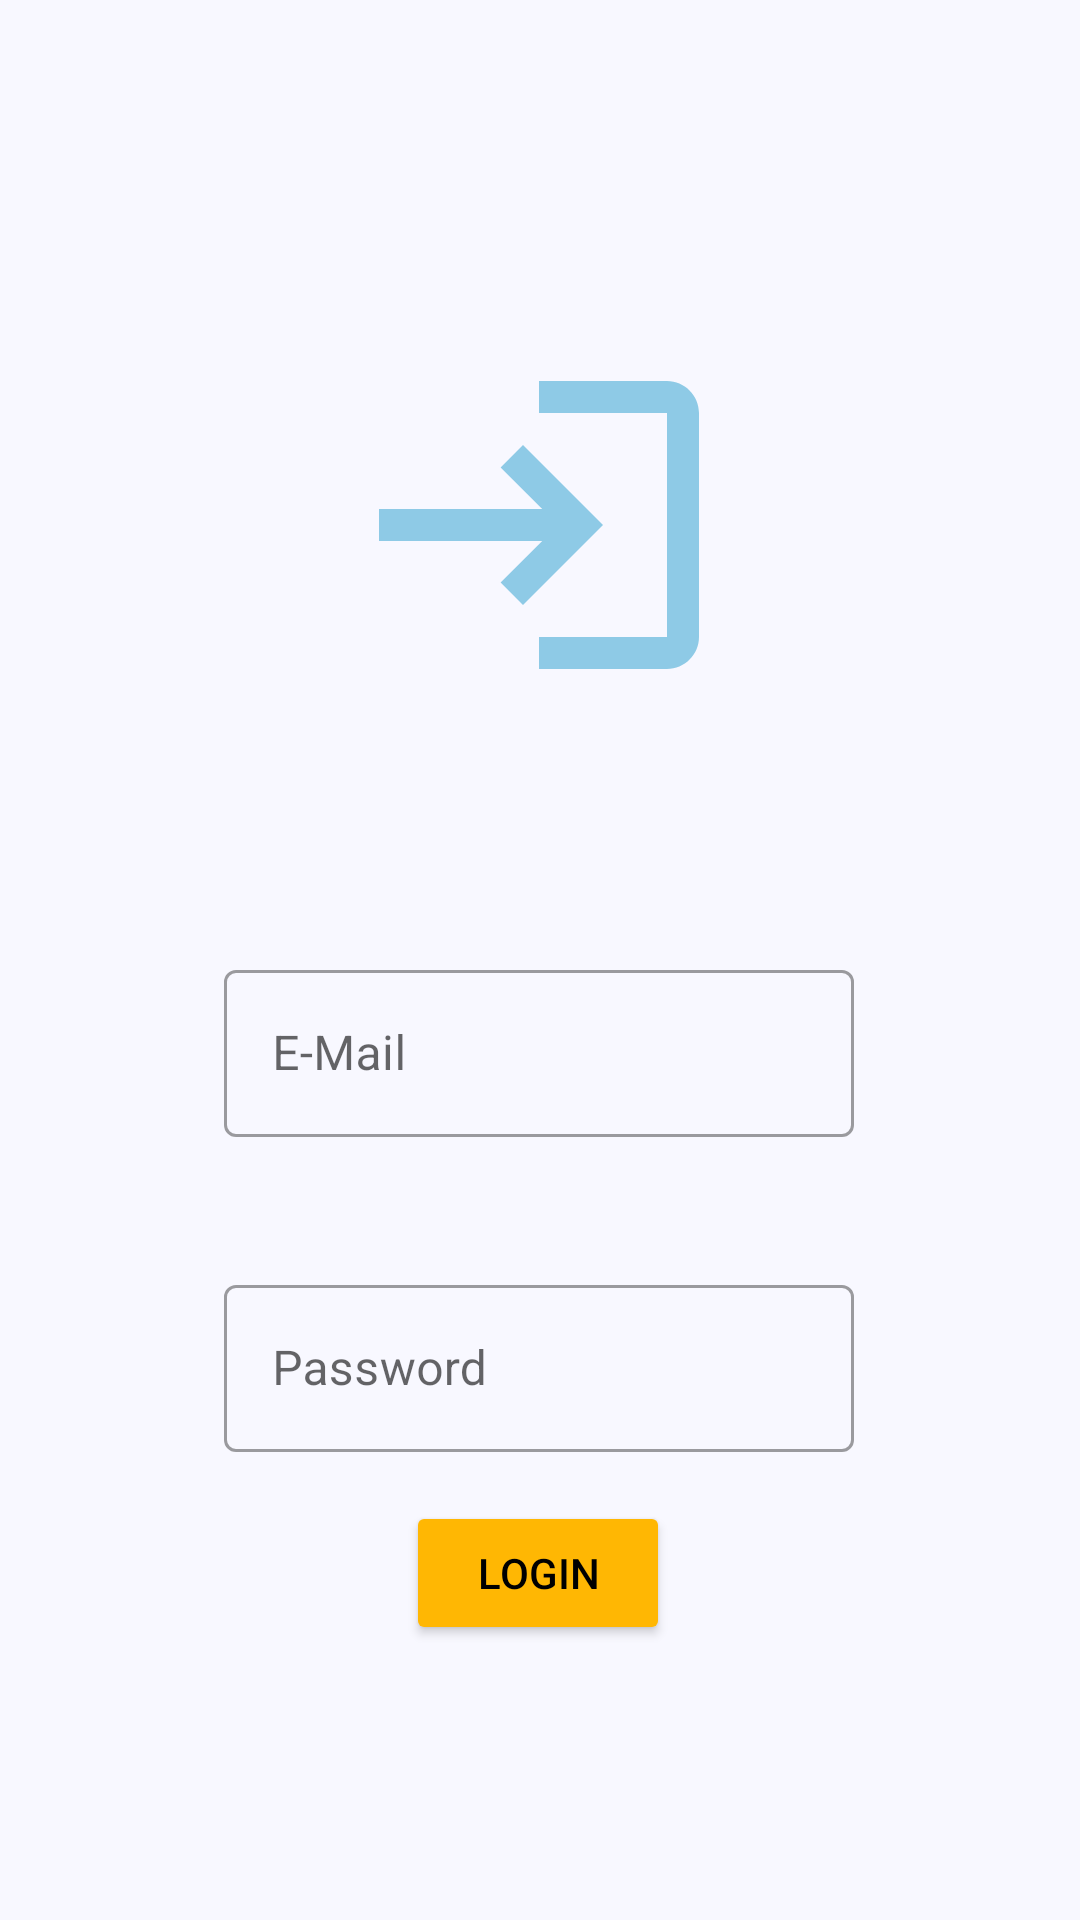

Icon click points for this 1080w x 1920h phone screenshot, format [x,y]:
login: [539,525]
